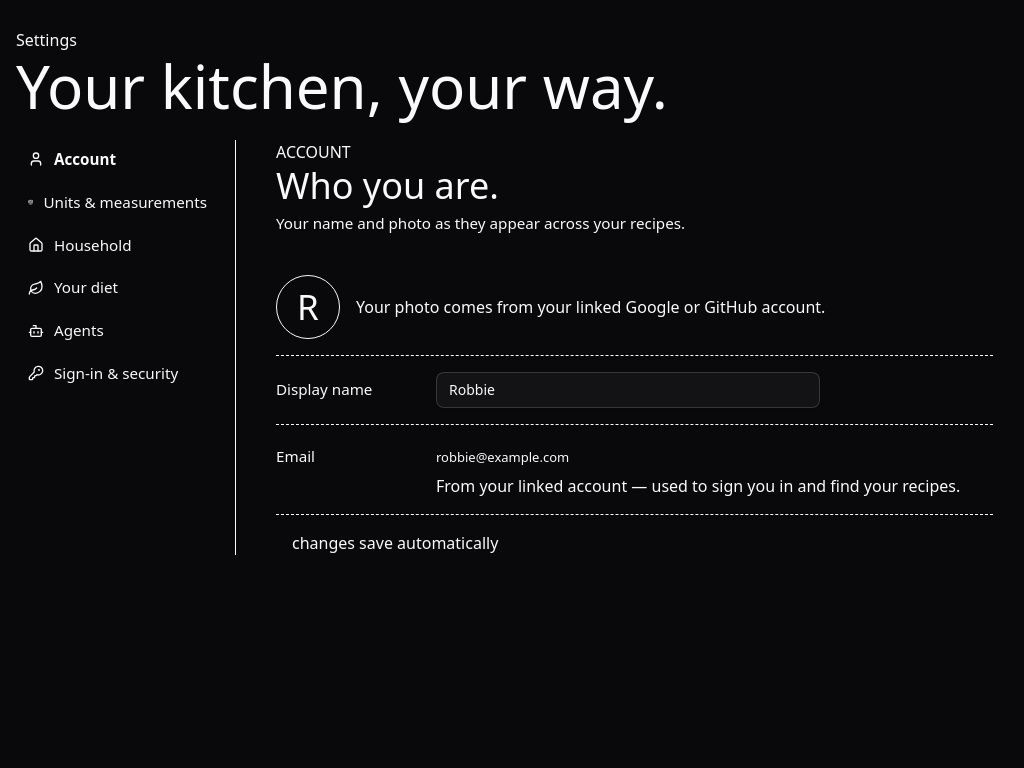
Test: SettingsView › shows linked accounts and offers to link the other provider
The image size is (1024, 768).
Click the button "Sign-in & security" at [118, 373], box [16,354,219,393]
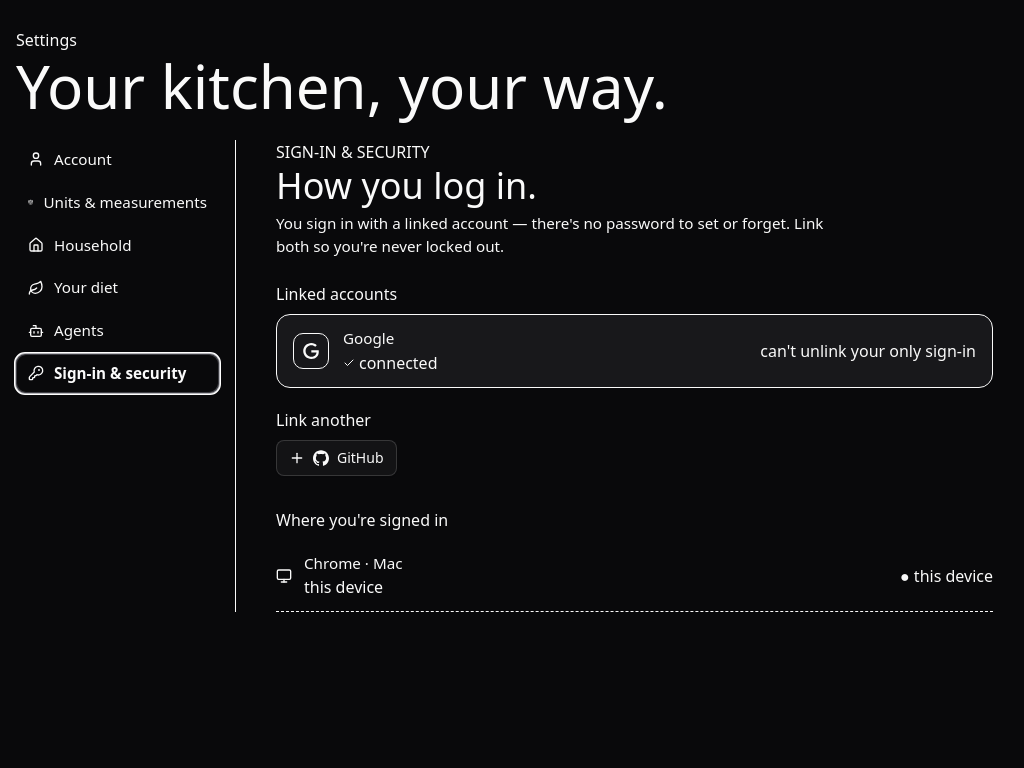
Check: the text "Google" is shown, box [343,328,394,348]
Check: the text "can't unlink your only sign-in" is shown, box [760,339,976,363]
Check: the text "this device" is shown, box [304,576,383,598]
